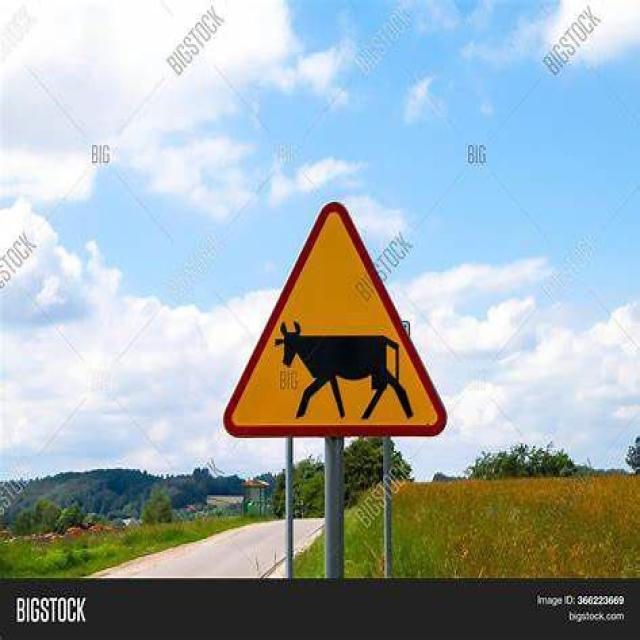cattle: (205, 193, 456, 477)
